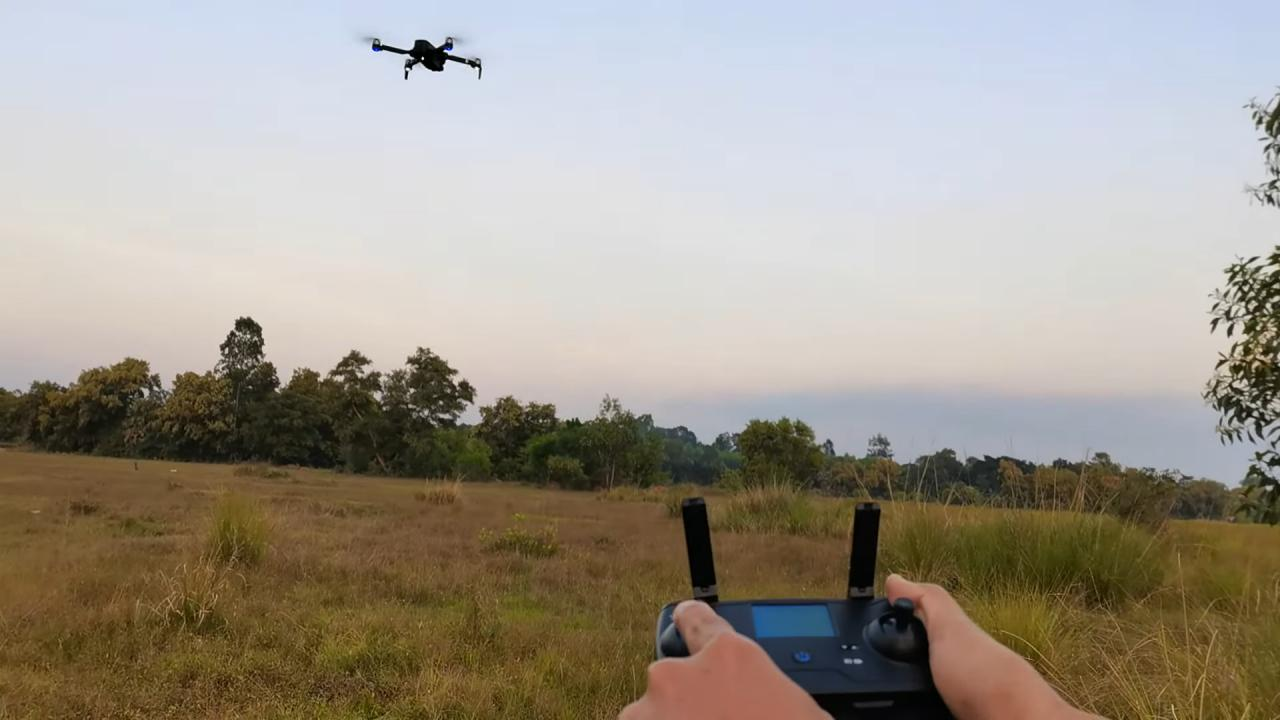Drone: (352, 23, 494, 91)
